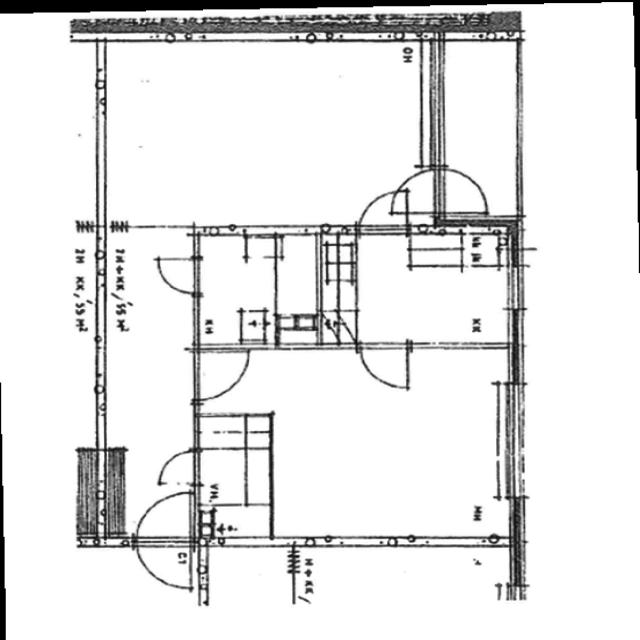door: (130, 485, 197, 589), (194, 342, 252, 404), (356, 337, 413, 392), (439, 165, 491, 221), (153, 252, 205, 297), (155, 448, 202, 490), (357, 191, 402, 234), (403, 167, 440, 200)
window: (488, 379, 533, 502), (412, 39, 451, 174)
zone: (112, 40, 424, 233), (194, 234, 348, 350)
